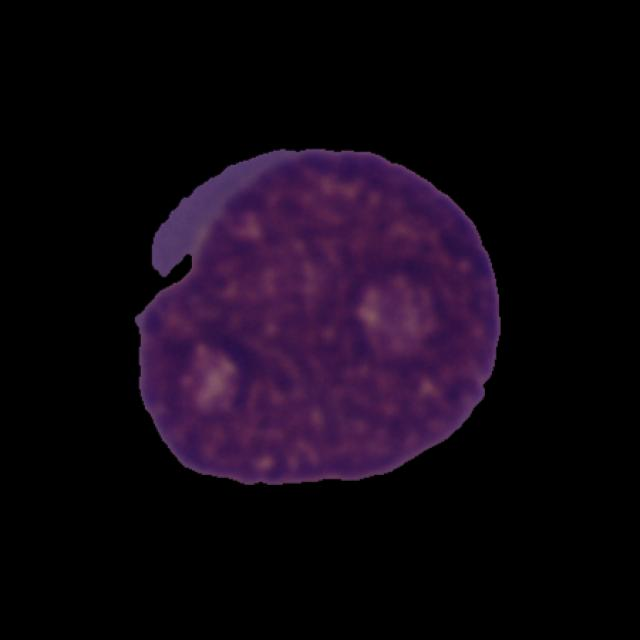ALL Positive Cell: (137, 148, 504, 482)
